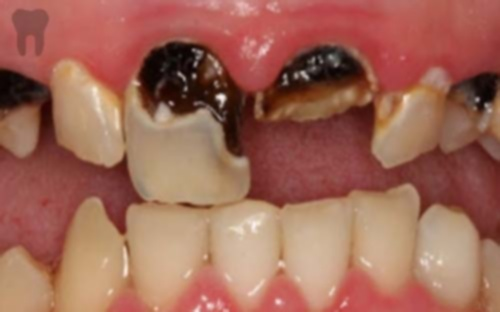karies: (133, 39, 245, 121), (261, 44, 370, 110), (1, 65, 50, 112), (447, 70, 500, 109), (375, 91, 407, 124)
